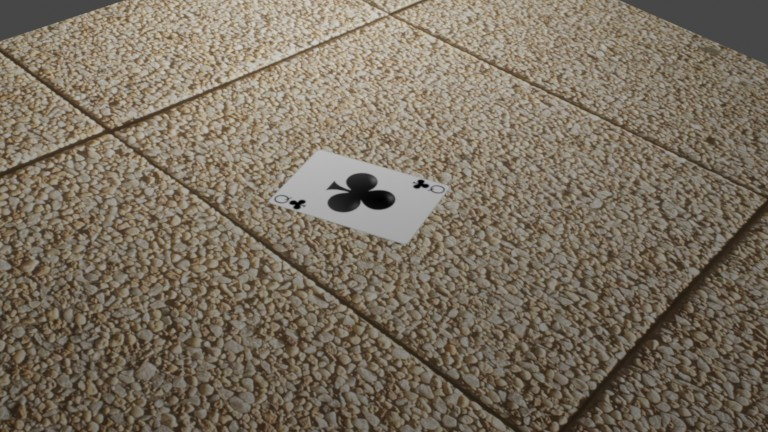queen_of_clubs: (108, 77, 124, 85), (163, 71, 179, 78)
